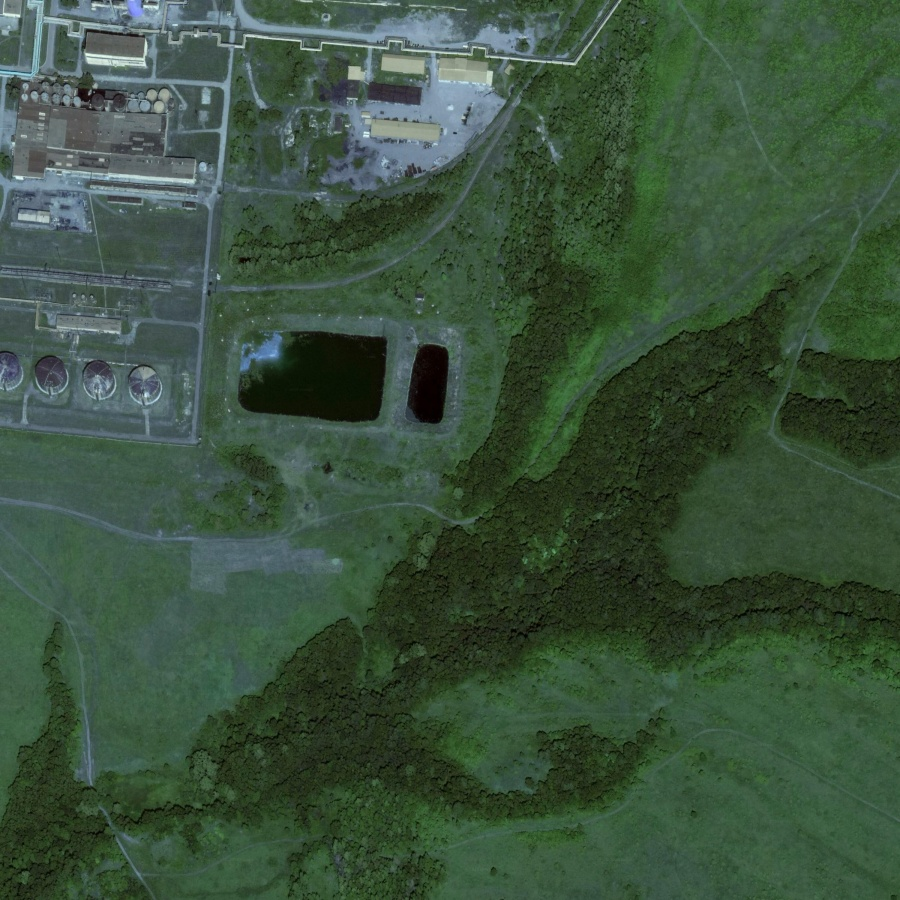PowerPlant: (228, 317, 462, 444)
